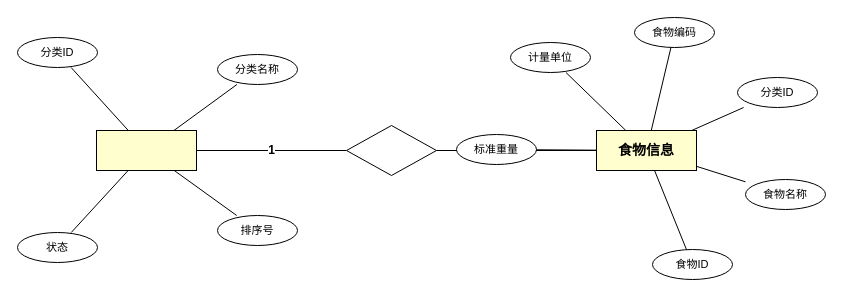
The diagram is 843 pixels wide and 297 high, and some of its shapes have lost their labels. The box of each missing label's shape, as (x1, y1, x2, y2) in pixels:
包含: (346, 124, 436, 176)
食物分类: (96, 130, 196, 170)
